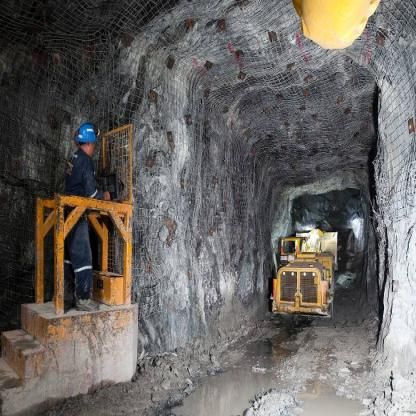bull_dozer/loader/grader: (253, 214, 351, 328)
person: (47, 117, 122, 316)
